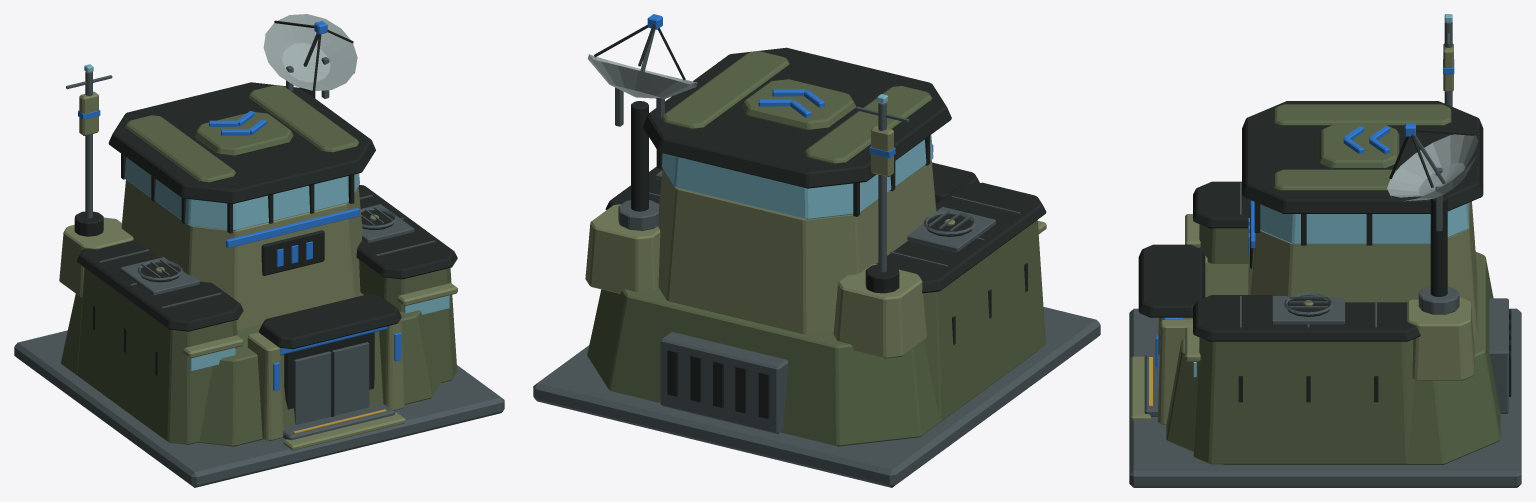
3 views of the same model, side by side, from view 1: azimuth 30°, elevation 25°; view 2: azimuth 150°, elevation 25°; view 3: azimuth 270°, elevation 25° (orthographic). The views are drawn at different scales.
Visible parts, largest first — view 1: Headquarters, Radar; view 2: Headquarters, Radar; view 3: Headquarters, Radar.
Boxes of the visible parts, bbox=[...] form: Headquarters: bbox=[14, 64, 504, 487]; Radar: bbox=[263, 14, 357, 98]; Headquarters: bbox=[533, 47, 1100, 487]; Radar: bbox=[588, 14, 697, 230]; Headquarters: bbox=[1129, 14, 1521, 487]; Radar: bbox=[1387, 123, 1478, 314].
Size of the model in its own units: 5.8 by 5.47 by 5.8.
